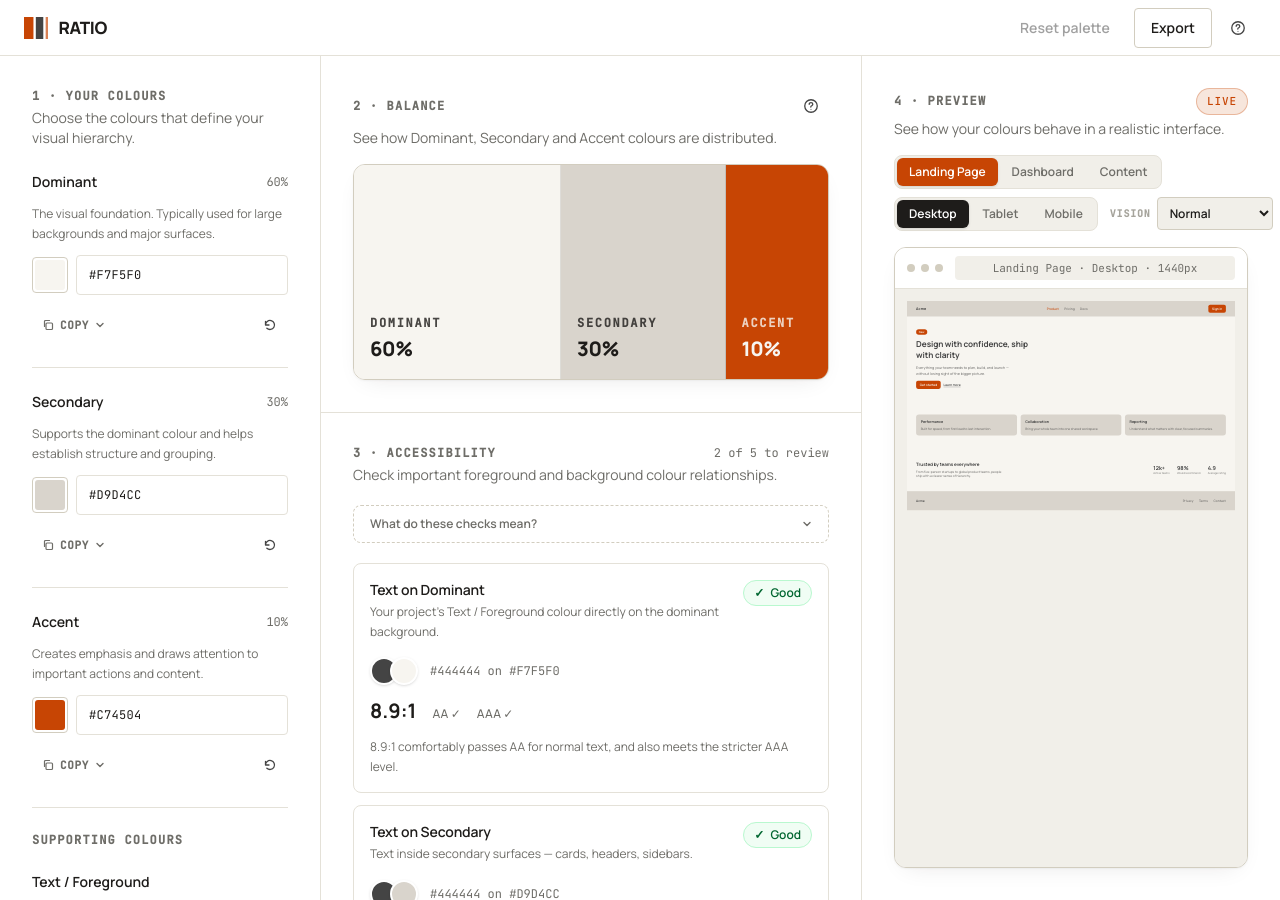
Test: WorkspaceShell › contextual feedback › announces a status message when switching preview templates
Click the tab "Dashboard": {"x": 1043, "y": 172} x1=1000 y1=158 x2=1086 y2=186
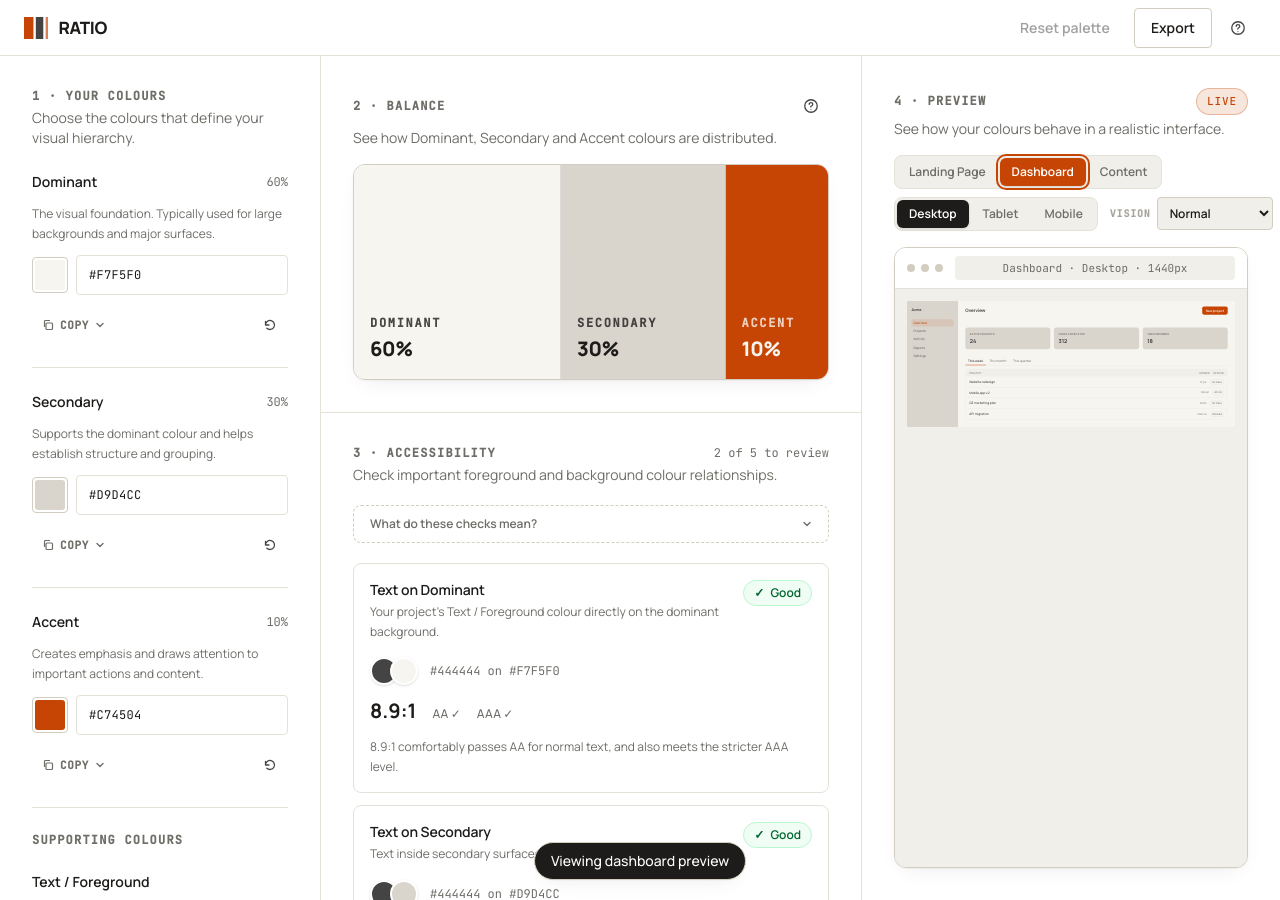
Expected: the text "Viewing dashboard preview" is shown, x1=534 y1=842 x2=746 y2=880
